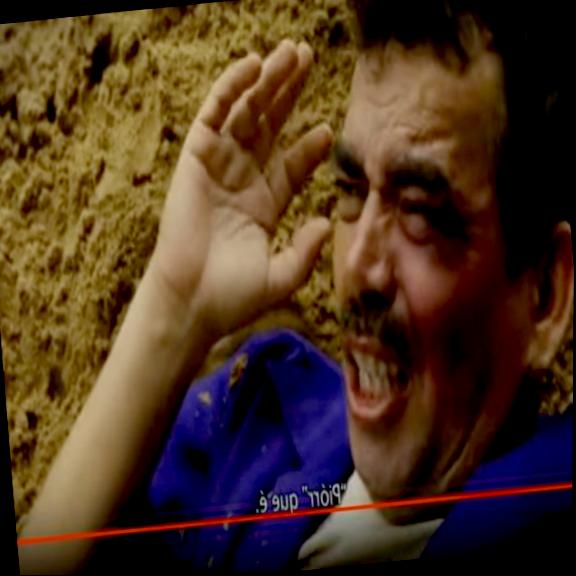no_safety_vest: (0, 292, 574, 576)
